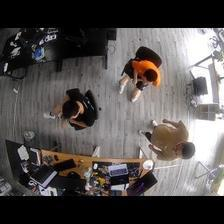normal: (44, 88, 98, 136), (138, 116, 195, 160), (115, 51, 162, 103)
